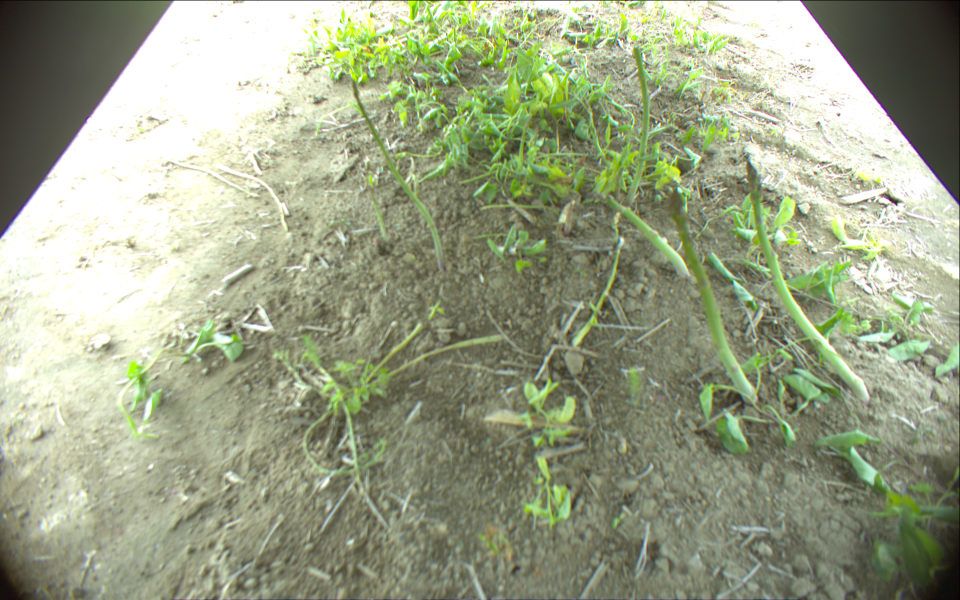aspa: (745, 161, 871, 402), (666, 188, 758, 403), (350, 79, 447, 272), (597, 192, 691, 277), (628, 47, 650, 207)
